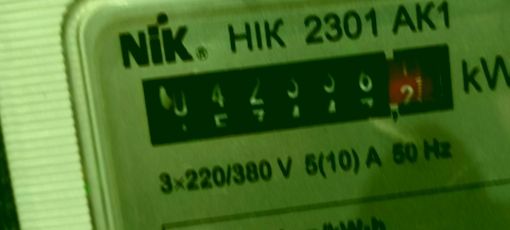0: (164, 83, 187, 118)
1: (392, 51, 407, 79)
2: (239, 70, 264, 106), (393, 82, 412, 105)
3: (276, 65, 298, 99), (315, 61, 335, 95)
4: (204, 75, 224, 108)
6: (350, 58, 374, 95)
screen: (124, 28, 467, 157)
